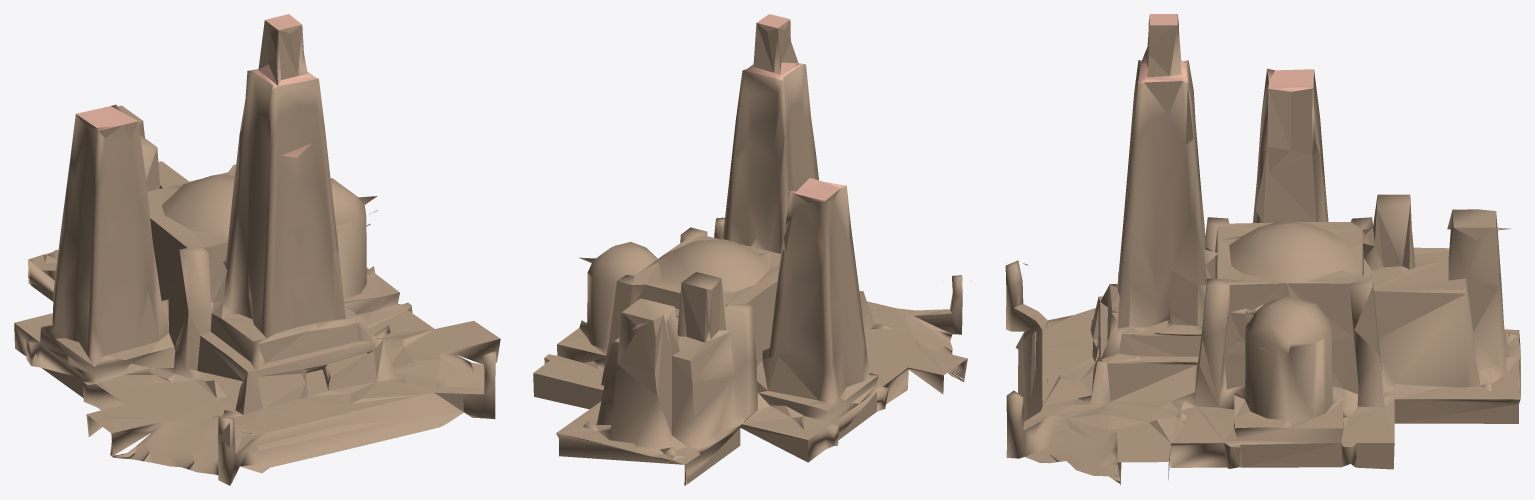
File: templo_mediano.glb
3 views of the same model, side by side, from view 1: azimuth 30°, elevation 25°; view 2: azimuth 150°, elevation 25°; view 3: azimuth 270°, elevation 25° (orthographic). The views are drawn at different scales.
Parts seen in each view (by area): view 1: templo_mediano; view 2: templo_mediano; view 3: templo_mediano.
Boxes of the visible parts, x1,y1,x2,y2 form: templo_mediano: (14, 14, 500, 485); templo_mediano: (533, 14, 971, 485); templo_mediano: (1000, 14, 1520, 485).
Bounding box in the file's own units: 10.62 × 9.79 × 12.28.
